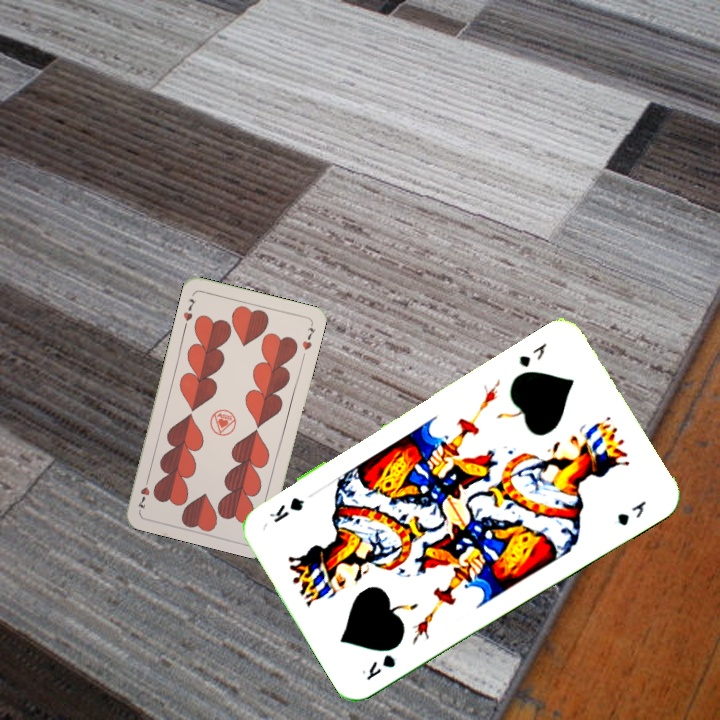GK: (357, 650, 398, 683), (515, 338, 550, 370)
H7: (179, 294, 199, 331)
